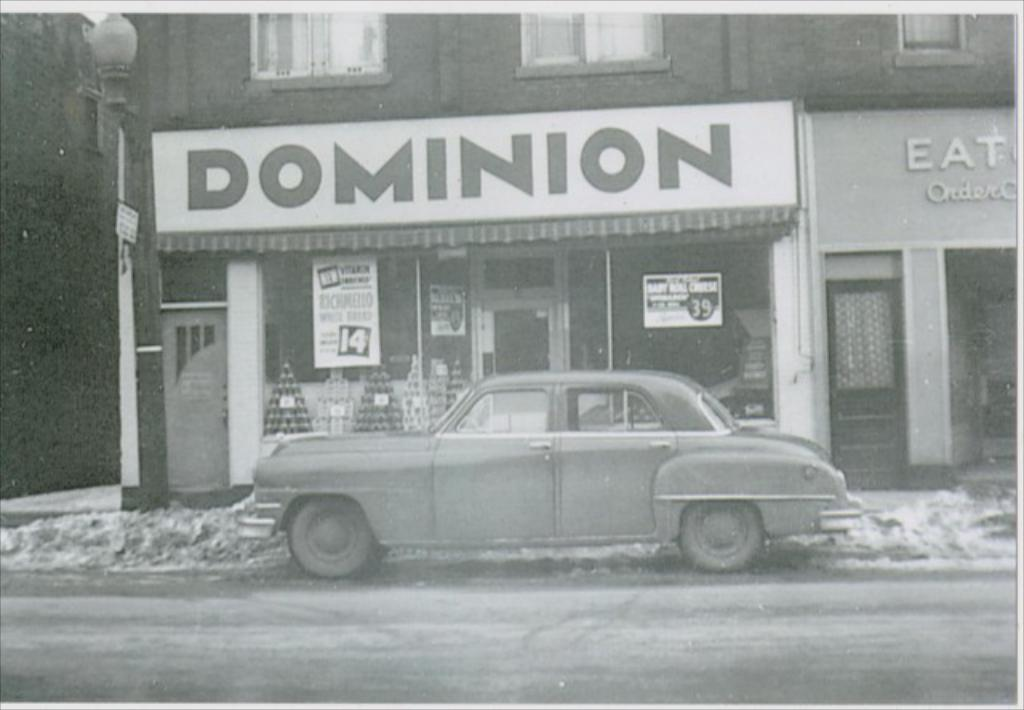Car: (238, 367, 859, 572)
